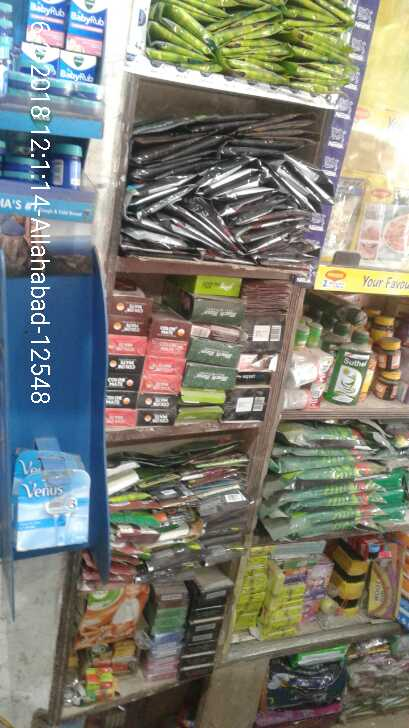beauty: (14, 466, 96, 554)
pharmacy: (67, 3, 113, 57), (50, 140, 85, 190)
